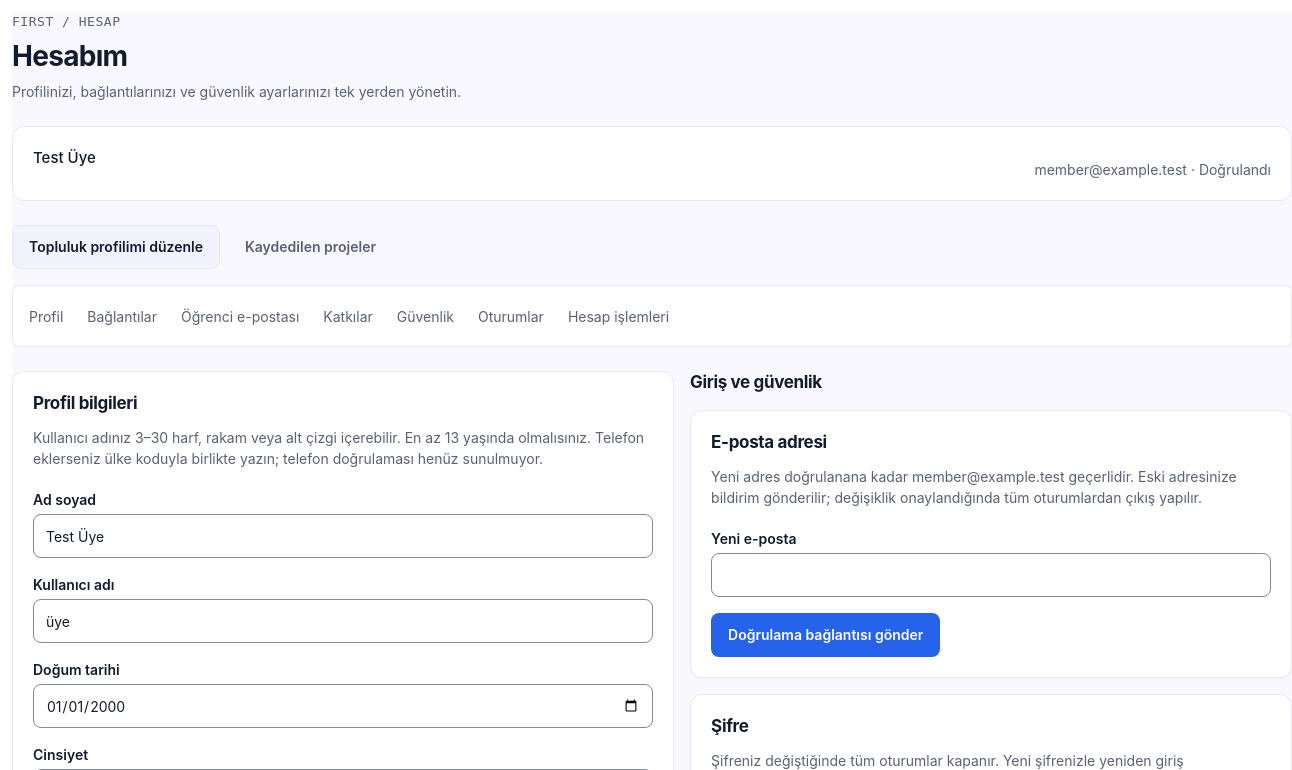
Scenario: account mutations › keeps the old email visible after requesting a new one
Type "new@example.test" into the field labelled "Yeni e-posta" at {"x": 991, "y": 575}, box [711, 553, 1271, 597]
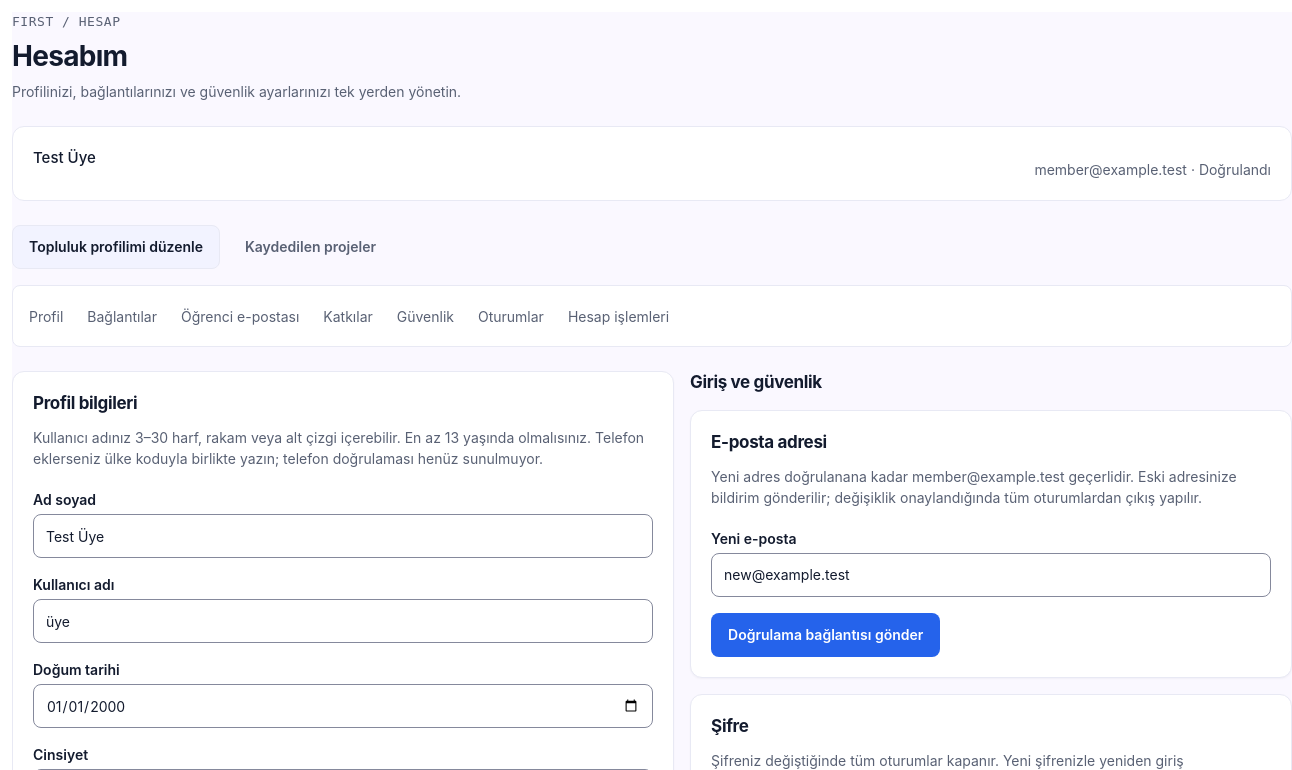
Submit the form "Doğrulama bağlantısı gönder", box [711, 528, 1271, 657]
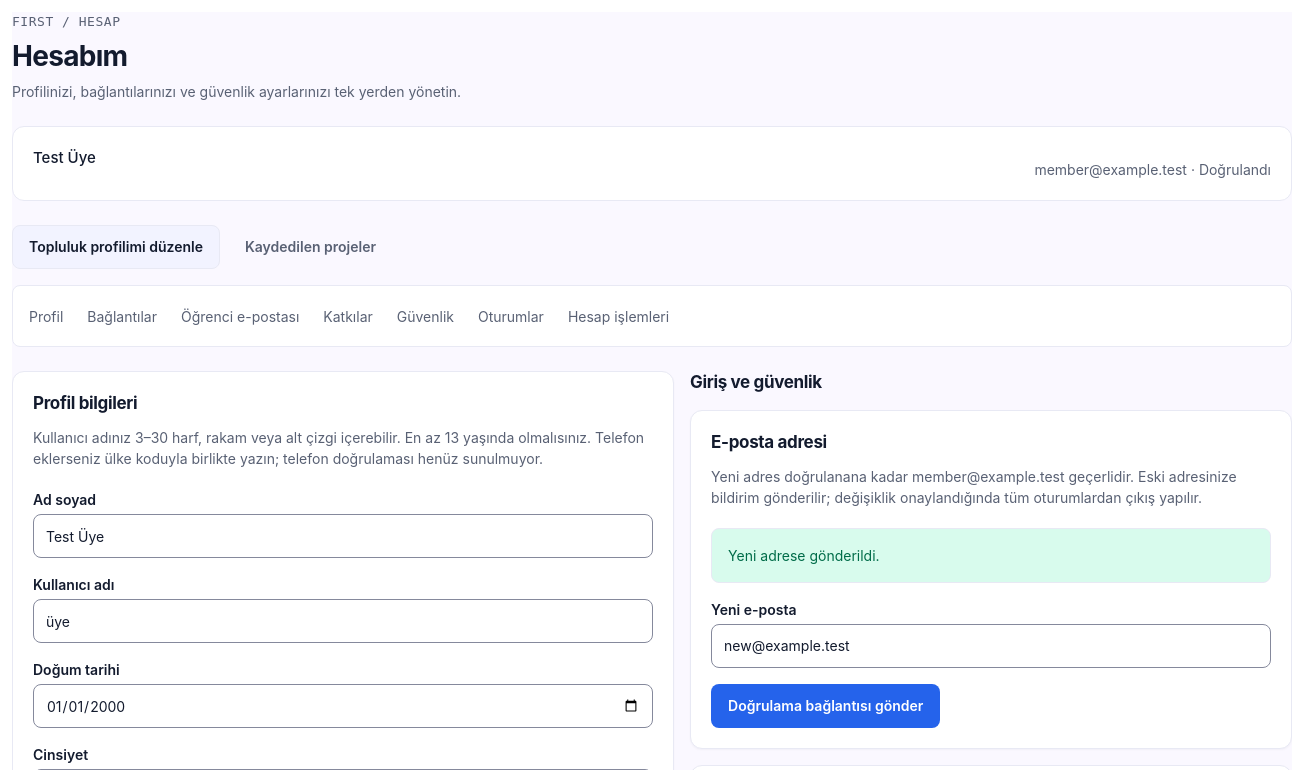
Expected: the text "member@example.test · Doğrulandı" is shown, [1034, 159, 1271, 180]
Result: the text "Yeni adrese gönderildi." is shown at [711, 528, 1271, 583]
